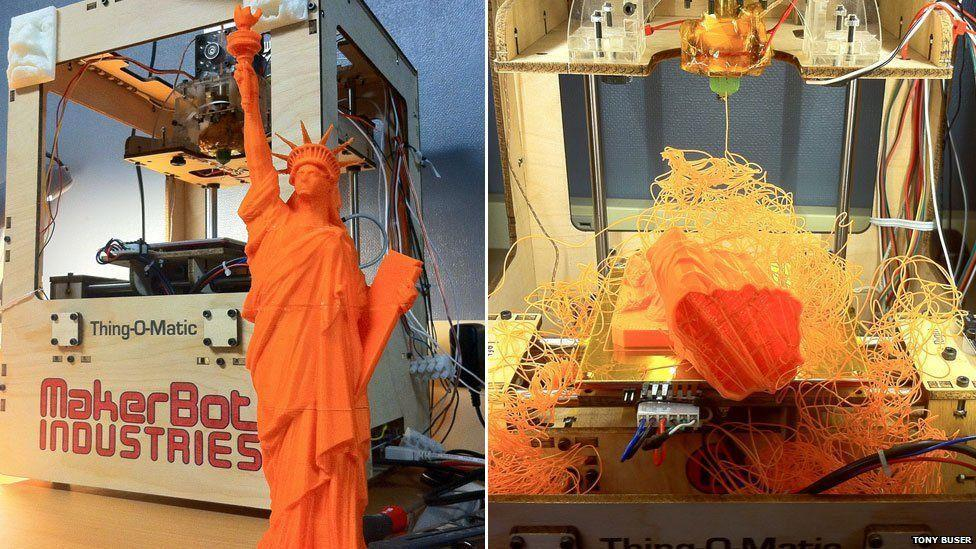Spaghetti: (485, 222, 652, 508), (679, 404, 960, 494), (644, 145, 853, 228), (795, 288, 964, 385), (664, 283, 801, 397), (713, 229, 867, 282), (777, 380, 948, 409)
Stringing or Oozing: (253, 397, 387, 426), (233, 298, 425, 315)
